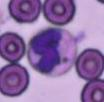M: (27, 27, 76, 76)
